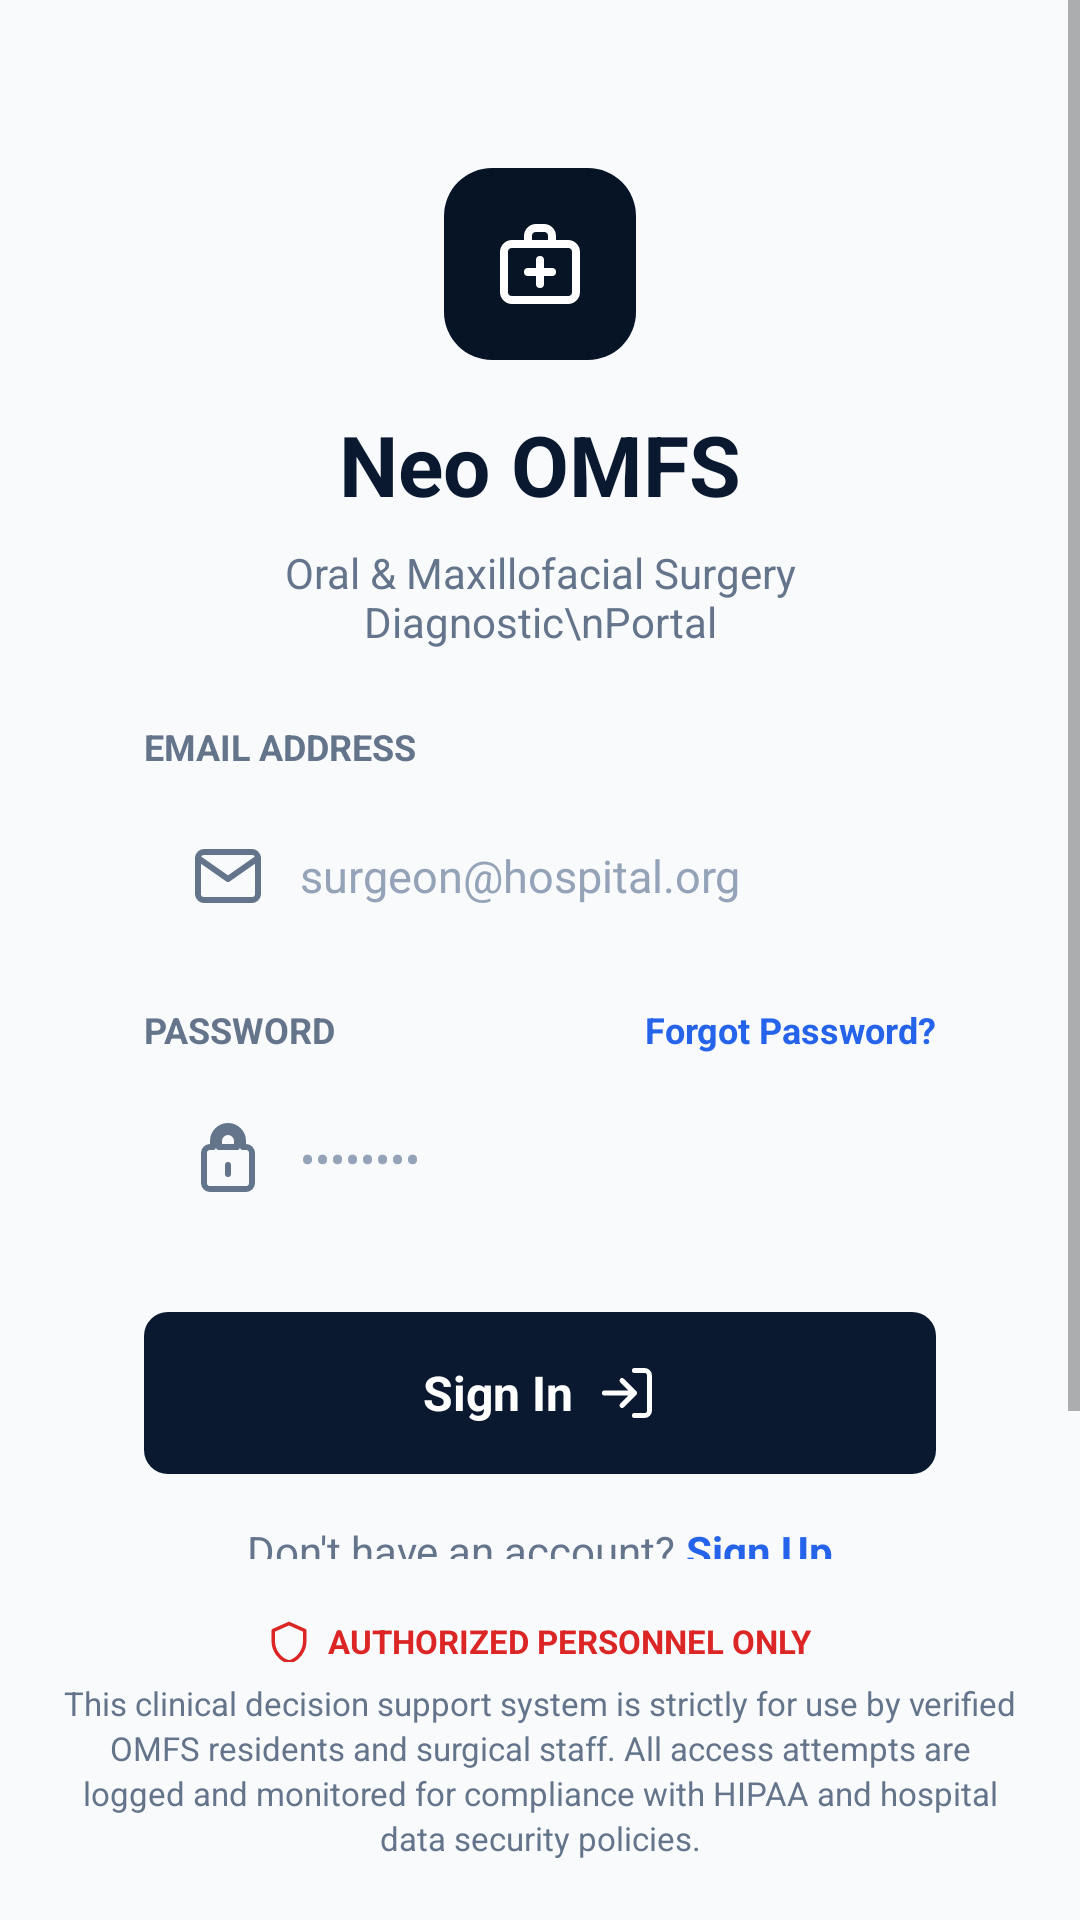

Named icons in this screenshot (1080px×1920px) and their bounding boxes, bbox=(x1, y1, x2, y2):
medical bag: bbox=(444, 168, 636, 360)
shield: bbox=(271, 1621, 307, 1662)
